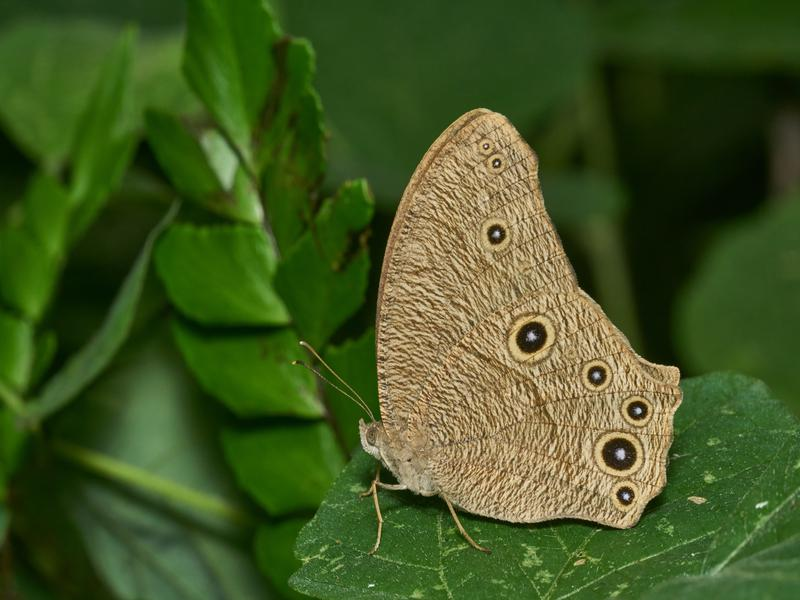Rice_horned_caterpillar: (349, 107, 692, 535)
